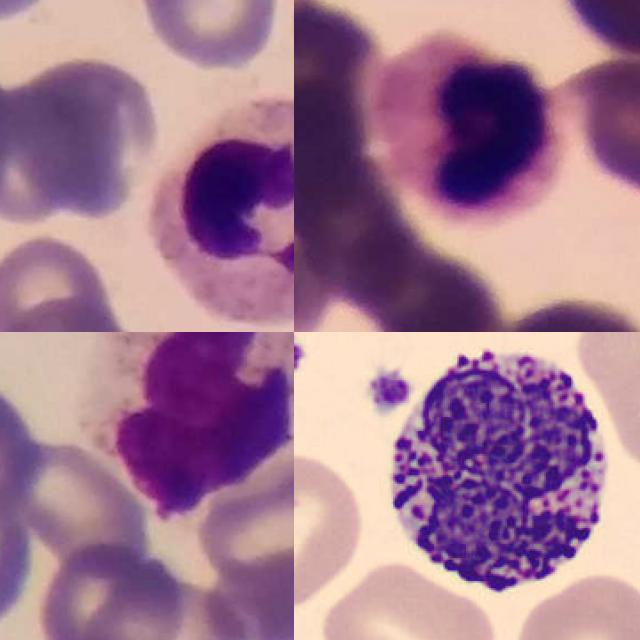Basophil: (371, 332, 624, 612)
Neutrophil: (81, 332, 294, 511), (369, 34, 561, 216), (150, 101, 294, 326)
Platelets: (363, 364, 414, 417), (294, 332, 311, 376)
RBC: (314, 554, 510, 640), (294, 449, 368, 611), (573, 332, 640, 480), (503, 570, 640, 640)
